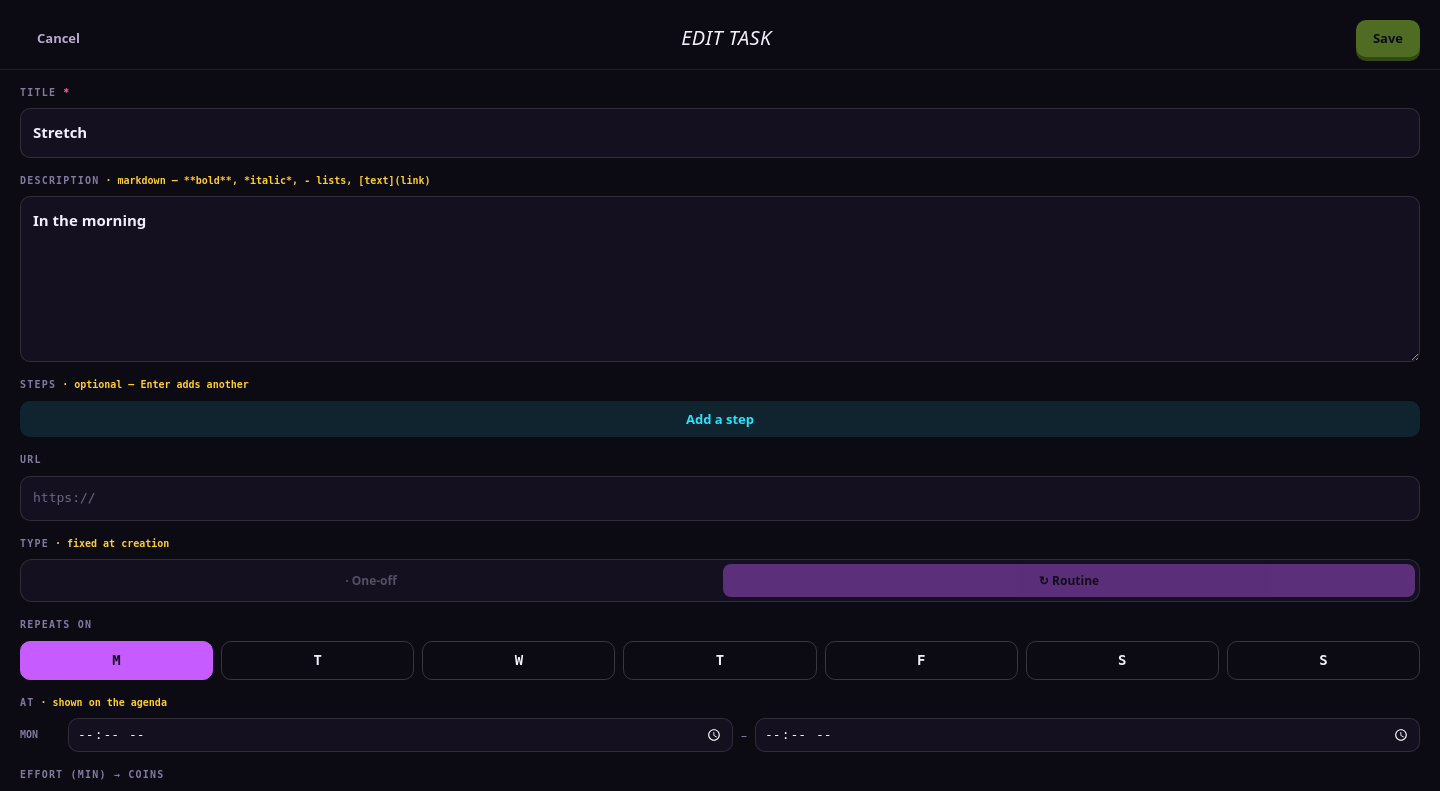
Test: editing — the patch is a diff › keeps Save off until something actually changes
The width and height of the screenshot is (1440, 791).
Expected: the button "Save" is disabled, [1356,20,1420,57]
Type "!" into the field labelled "Title *" at (720,133), box [20,108,1420,158]
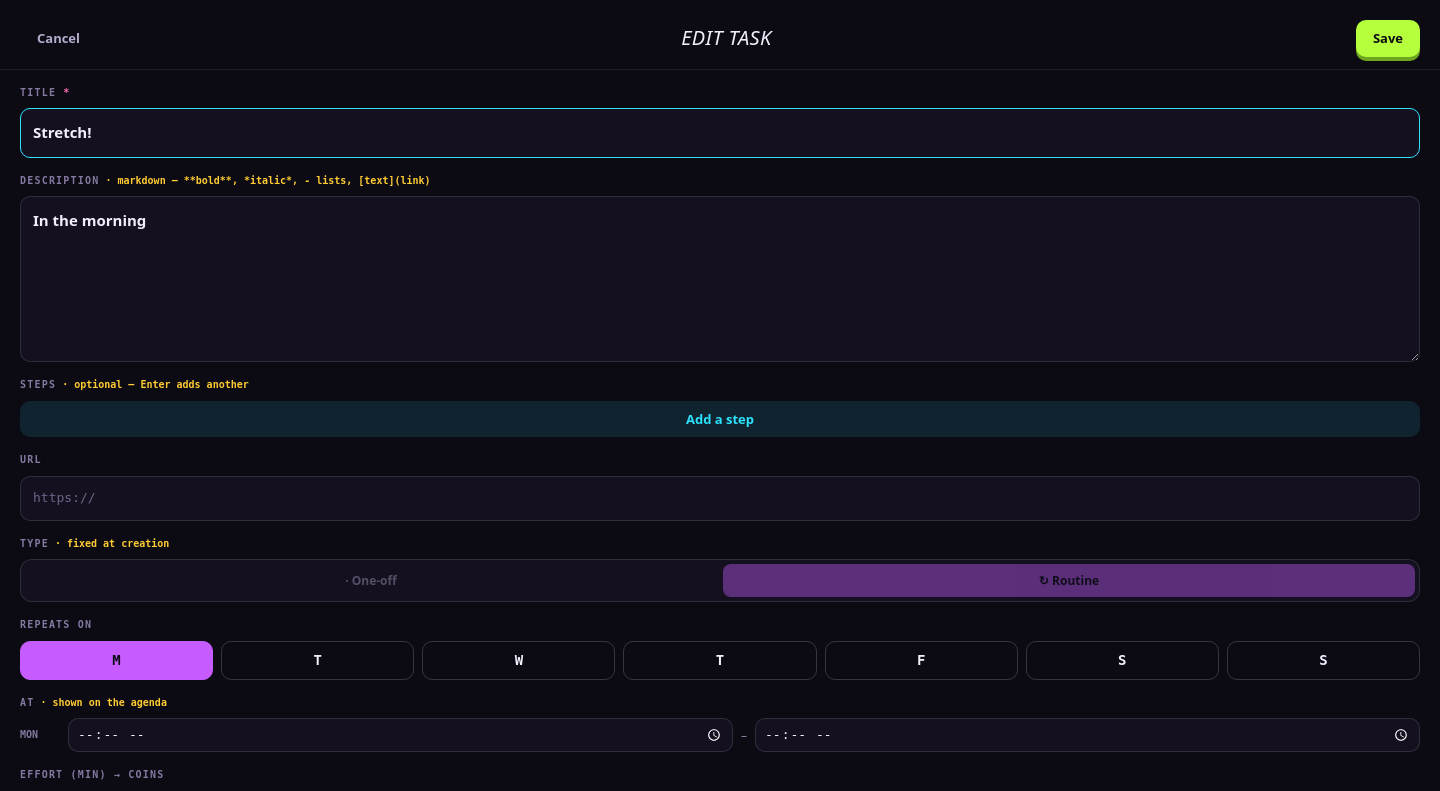
Expected: the button "Save" is enabled, [1356,20,1420,57]
